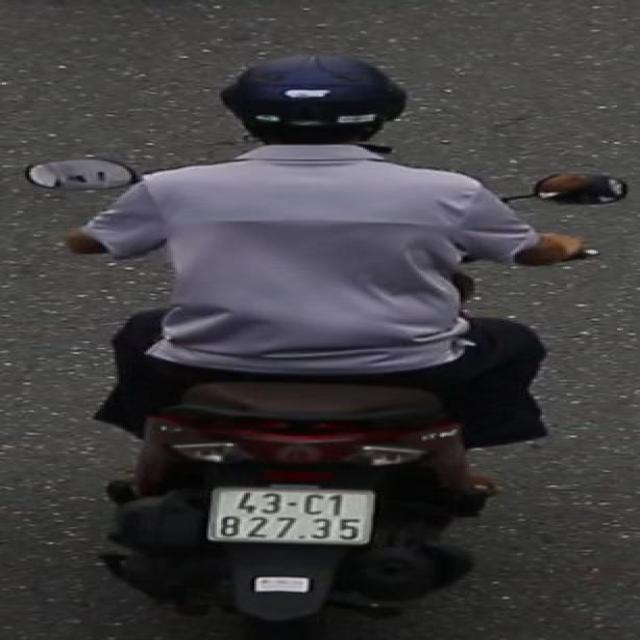LP: (199, 478, 385, 551)
helmet: (217, 51, 417, 170)
